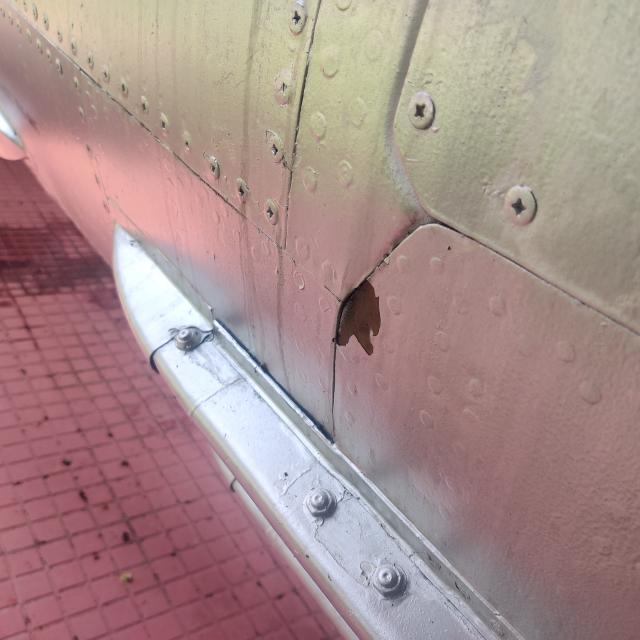paint-off: (310, 262, 408, 365)
